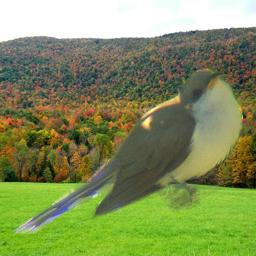Cuckoo: (11, 69, 243, 234)
